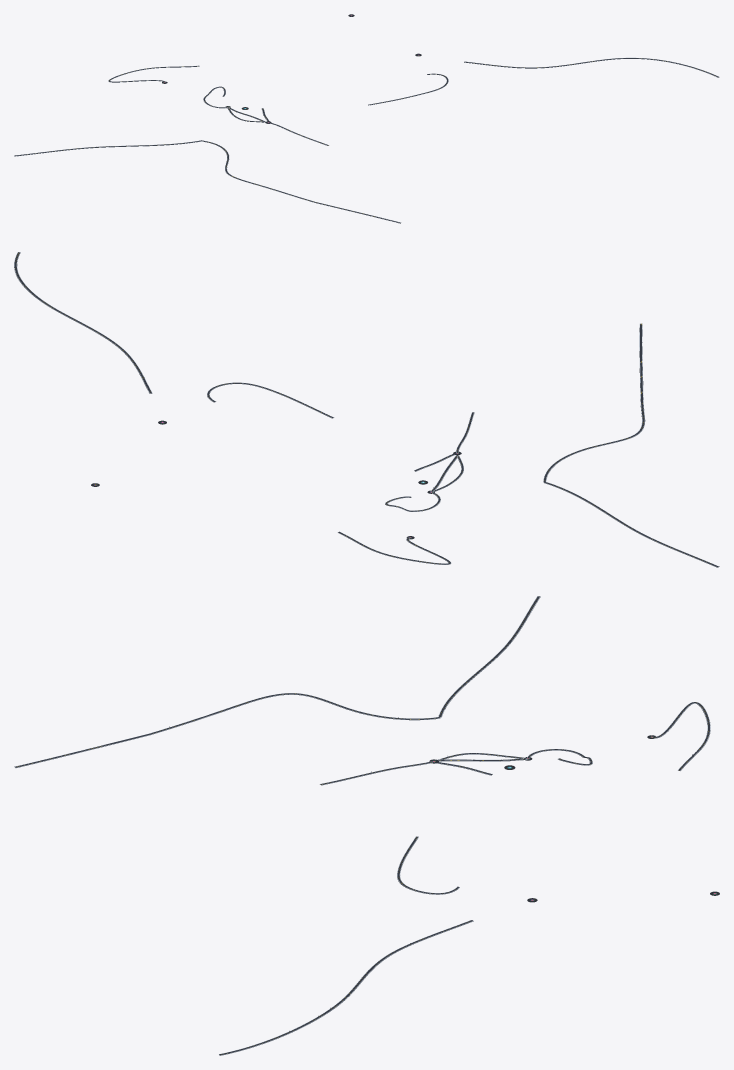
The model's file is ring0_hillside_slopes_and_connectors_w2.glb.
3 views of the same model, one above another, from view 1: azimuth 30°, elevation 25°; view 2: azimuth 150°, elevation 25°; view 3: azimuth 270°, elevation 25° (orthographic). The views are drawn at different scales.
Bounding box in the file's own units: 5742 × 101 × 3663.
